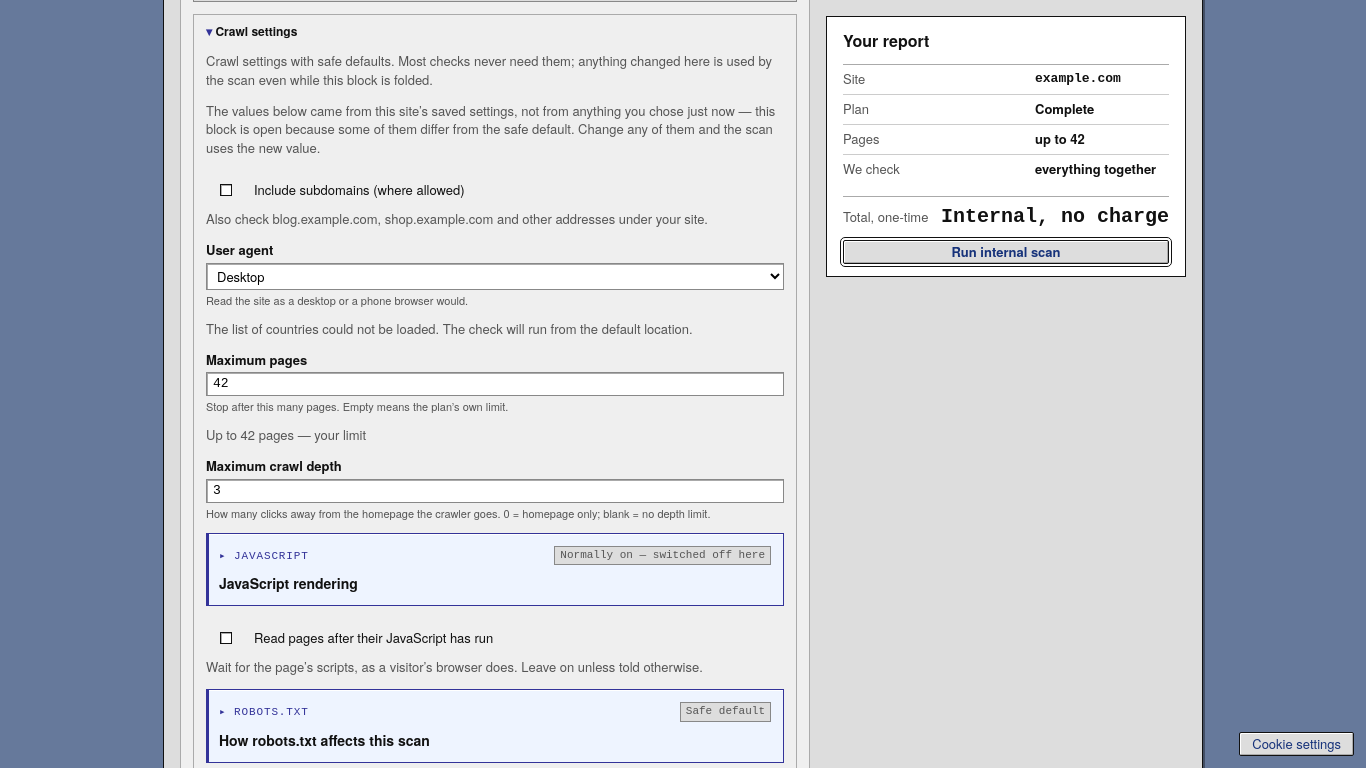
Test case: a page count the API would refuse › stops the scan and says so when the page count is negative
This screenshot has width=1366, height=768.
(page scrolled)
Replace the text in the number field labelled "Maximum pages" with "-3" at (495, 384), box [206, 372, 784, 396]
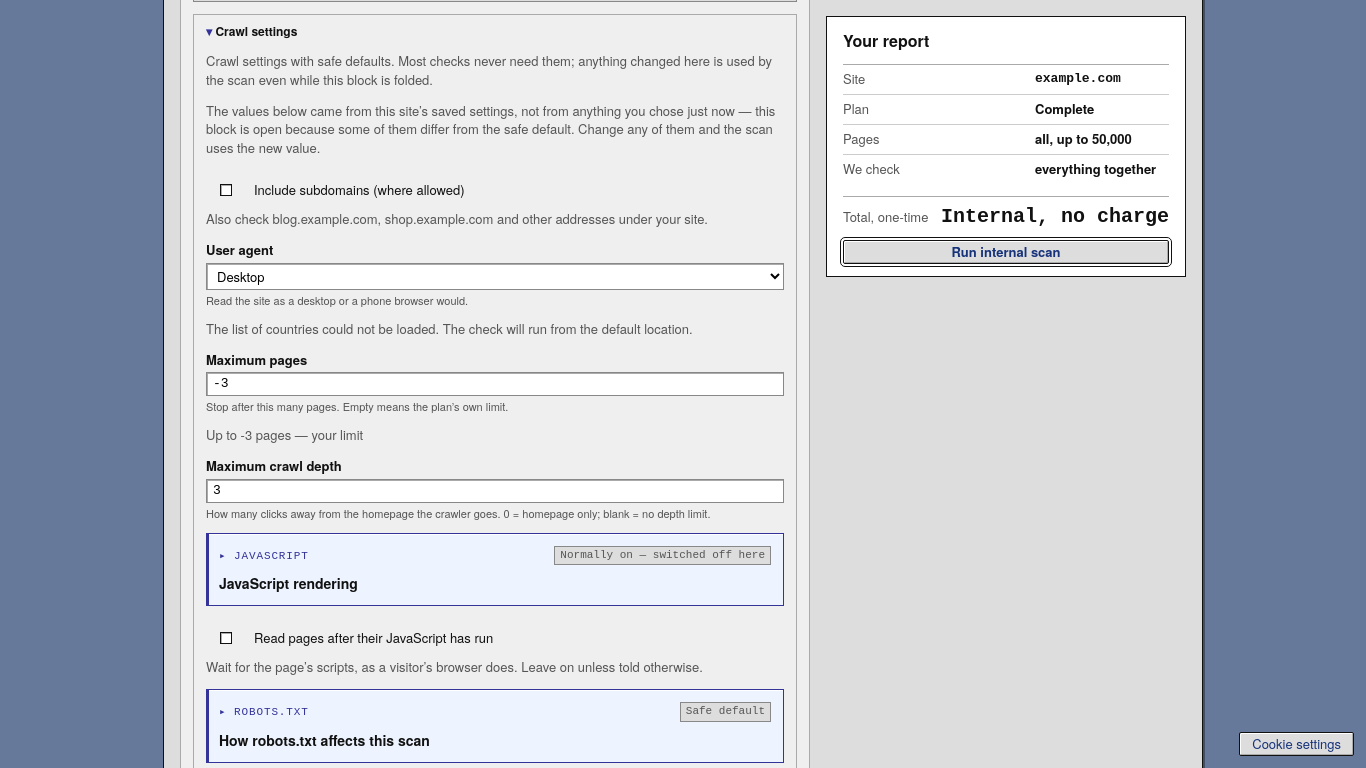
Click the button "Run internal scan".
click(1006, 252)  # box [843, 240, 1169, 264]
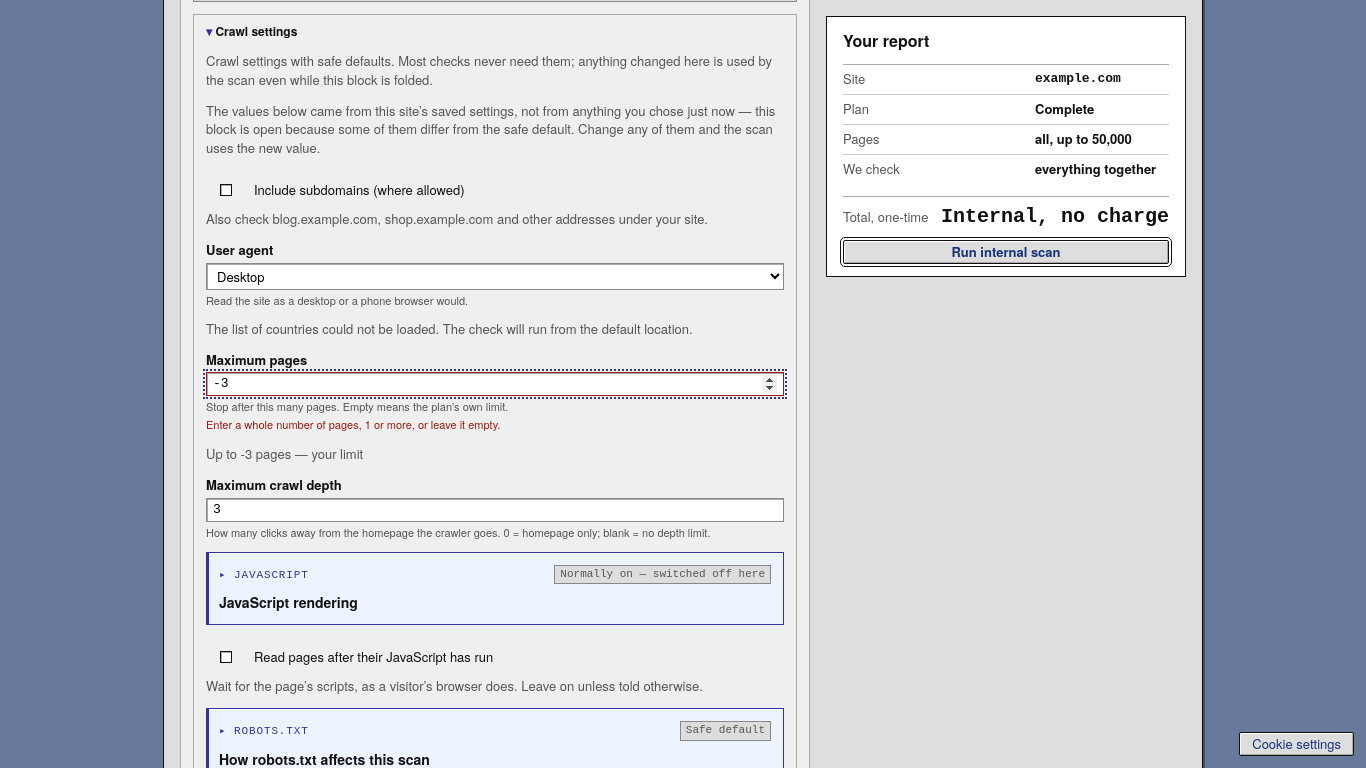
Check: the message shows "Enter a whole number of pages, 1 or more", box [206, 416, 500, 432]
